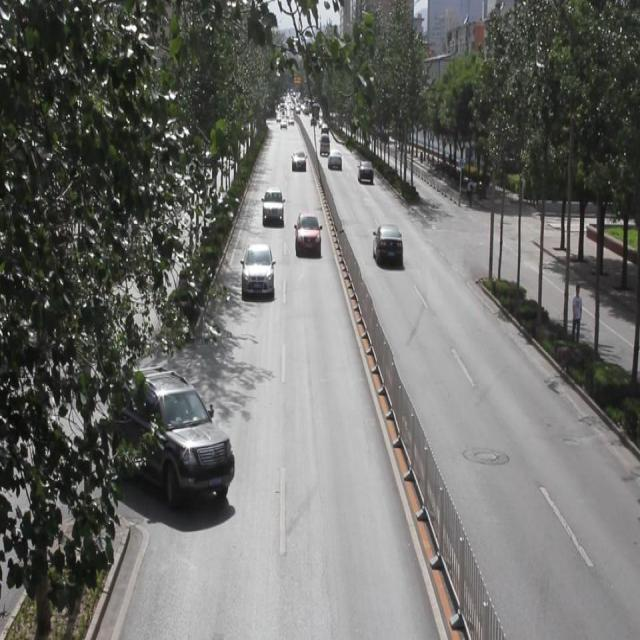car: (104, 368, 231, 508), (241, 243, 274, 296), (372, 222, 404, 268), (293, 212, 322, 254), (261, 186, 284, 224), (327, 147, 342, 171), (290, 150, 306, 172), (356, 159, 372, 181)
truck: (319, 132, 329, 158)
